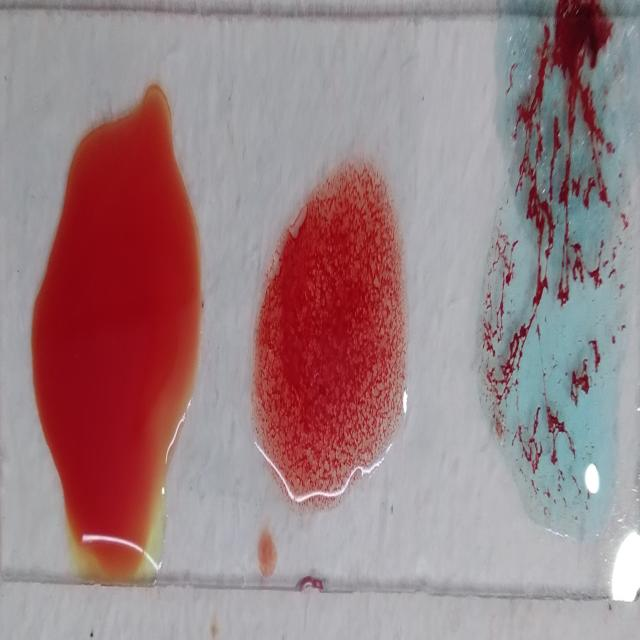A: (490, 3, 628, 520)
D: (243, 168, 406, 501)
